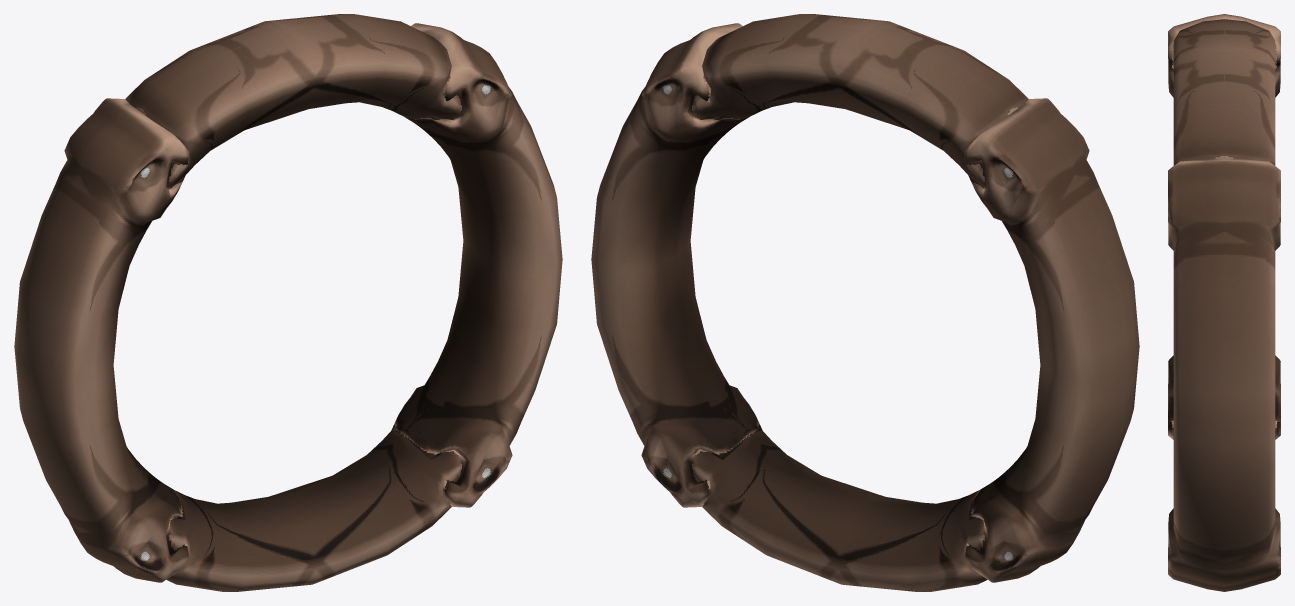
The model's file is ringpiece4.glb.
3 renders of one model, left to right at view 1: azimuth 30°, elevation 25°; view 2: azimuth 150°, elevation 25°; view 3: azimuth 270°, elevation 25°, orthographic. The views are drawn at different scales.
Visible parts, largest first — view 1: piece4.001; view 2: piece4.001; view 3: piece4.001.
Boxes of the visible parts, left/top/right/bottom form: piece4.001: left=14, top=14, right=562, bottom=591; piece4.001: left=591, top=14, right=1139, bottom=591; piece4.001: left=1168, top=14, right=1280, bottom=591.
Size of the model in its own units: 2.51 by 2.51 by 0.5033.
Materials: 2 (1 with a texture image).
